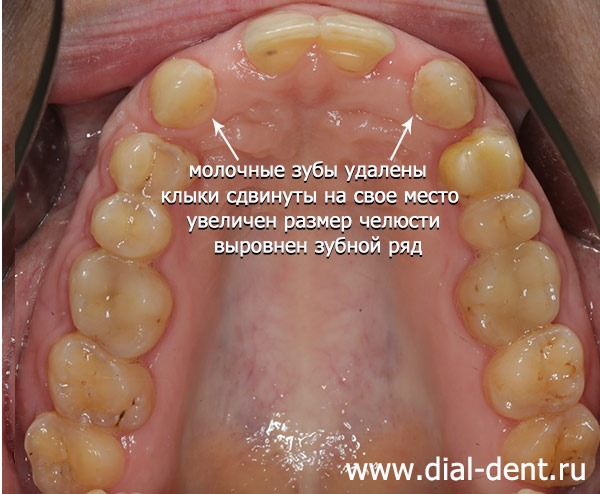UL1BC_healthy: (460, 193, 539, 249)
UL1M_decay: (487, 326, 583, 417)
UL2BC_healthy: (460, 243, 557, 339)
UL2M_decay: (506, 407, 598, 459)
ULCI_healthy: (320, 14, 394, 72)
ULC_healthy: (445, 129, 522, 189)
ULLI_healthy: (413, 59, 474, 127)
UR1BC_healthy: (91, 192, 161, 258)
UR1M_decay: (50, 337, 153, 429)
UR2BC_healthy: (70, 251, 170, 355)
UR2M_decay: (25, 413, 121, 491)
URCI_decay: (242, 12, 318, 69)
URC_decay: (110, 136, 190, 191)
URLI_healthy: (151, 59, 214, 124)
